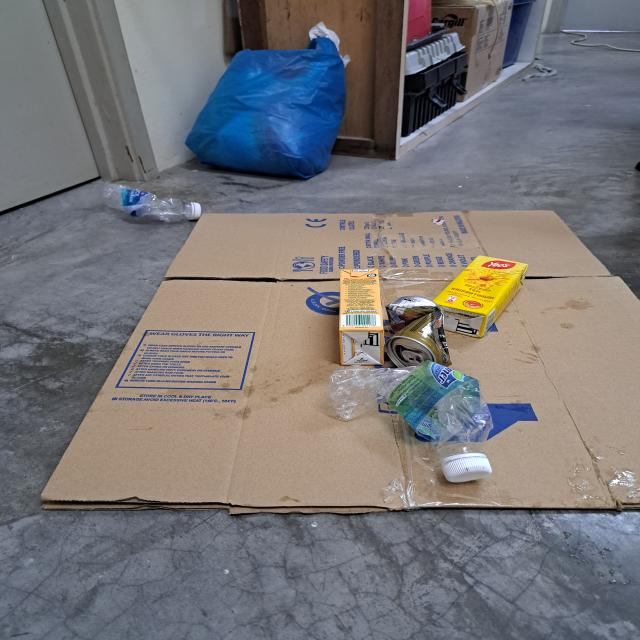can: (386, 296, 452, 368)
cardboard: (41, 212, 640, 517)
drink carton: (431, 255, 528, 338), (340, 269, 384, 365)
plastic bag: (185, 36, 349, 179)
plastic bottle: (328, 360, 494, 454), (100, 181, 192, 222)
plastic bottle cap: (442, 457, 492, 483), (188, 202, 202, 219)
pop tab: (402, 350, 424, 365)
